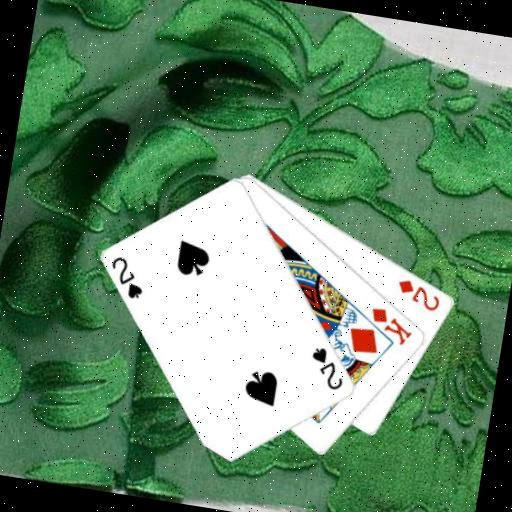2D: (391, 274, 444, 313)
2S: (304, 342, 351, 393), (103, 251, 150, 302)
KD: (364, 303, 417, 348)
